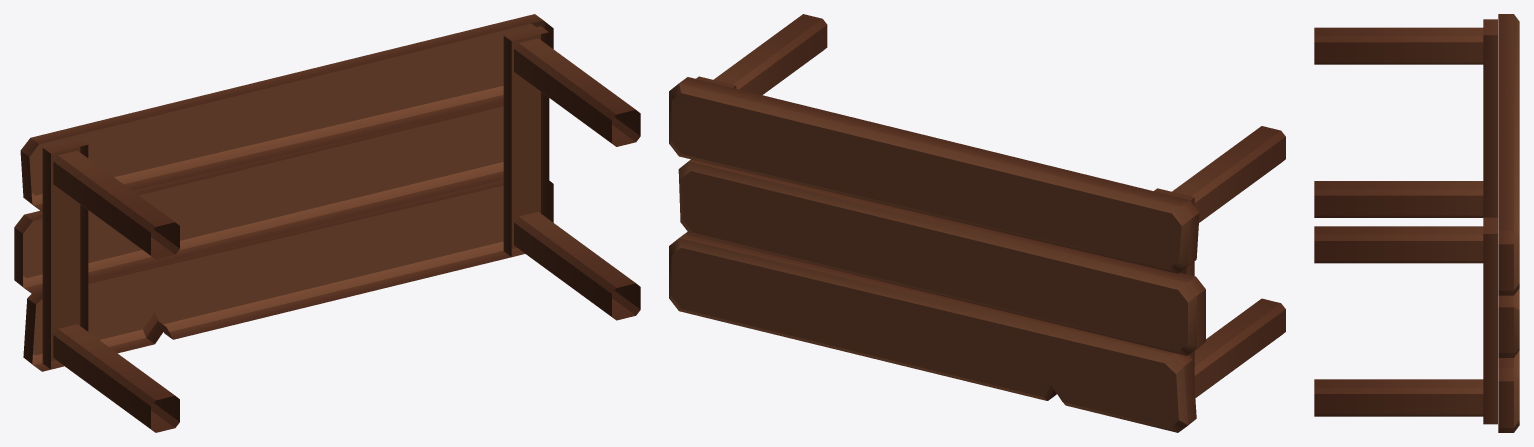
The model's file is Table 01.FBX.
3 renders of one model, left to right at view 1: azimuth 30°, elevation 25°; view 2: azimuth 150°, elevation 25°; view 3: azimuth 270°, elevation 25°, orthographic. The views are drawn at different scales.
Visible parts, largest first — view 1: Table 01; view 2: Table 01; view 3: Table 01.
Part boxes in pixels (left/top/right/bottom): Table 01: left=14, top=14, right=640, bottom=432; Table 01: left=669, top=14, right=1285, bottom=432; Table 01: left=1314, top=14, right=1519, bottom=432.
Size of the model in its own units: 207 by 85.44 by 78.71.
